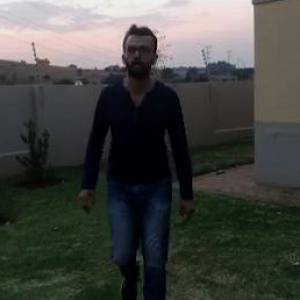follow: (89, 21, 185, 299)
